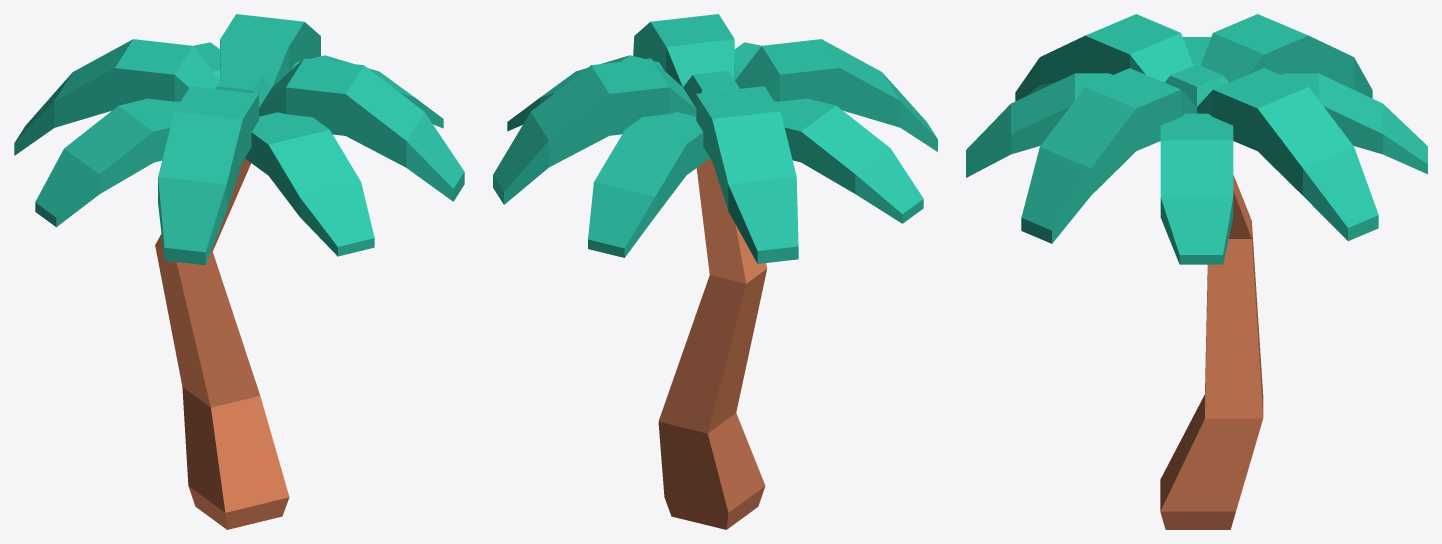
File: palm.glb
3 renders of one model, left to right at view 1: azimuth 30°, elevation 25°; view 2: azimuth 150°, elevation 25°; view 3: azimuth 270°, elevation 25°, orthographic. The views are drawn at different scales.
Visible parts, largest first — view 1: leafs.001, tree_palmDetailedShort, leafs; view 2: leafs.001, tree_palmDetailedShort, leafs; view 3: leafs.001, leafs, tree_palmDetailedShort.
Boxes of the visible parts, box(x1,y1,x2,y2) form: leafs.001: box(14, 14, 464, 265); tree_palmDetailedShort: box(155, 158, 289, 529); leafs: box(35, 42, 443, 256); leafs.001: box(493, 14, 937, 263); tree_palmDetailedShort: box(658, 158, 767, 529); leafs: box(507, 42, 923, 257); leafs.001: box(1015, 14, 1378, 243); leafs: box(966, 37, 1427, 264); tree_palmDetailedShort: box(1160, 175, 1263, 529).
Bounding box in the file's own units: 1.03 × 1.12 × 1.03.
